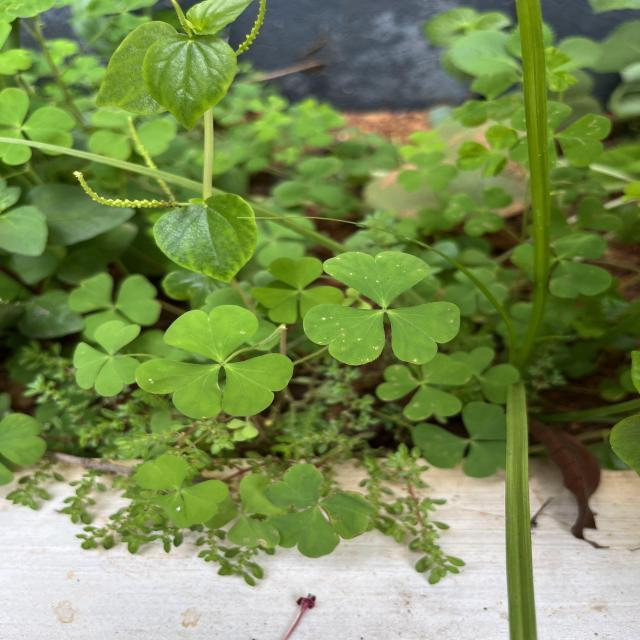Oxalis corniculata: (132, 304, 296, 421), (302, 250, 462, 367), (264, 462, 378, 558), (134, 454, 230, 528), (72, 320, 142, 398)
